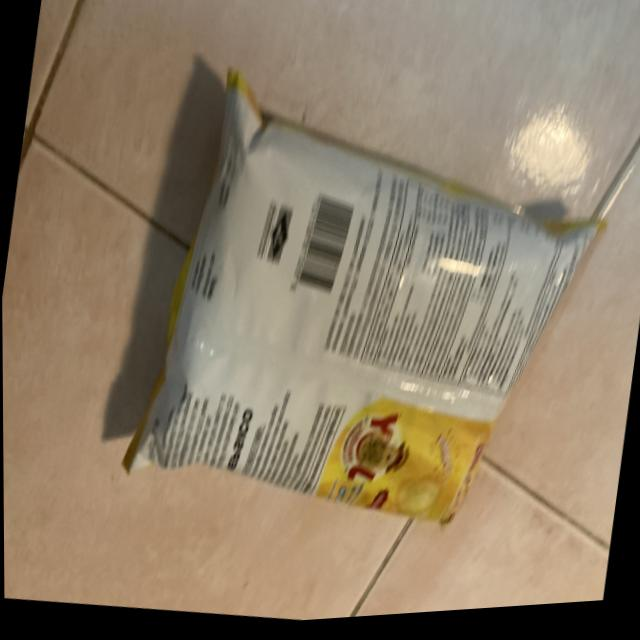LayYellow: (108, 118, 603, 585)
